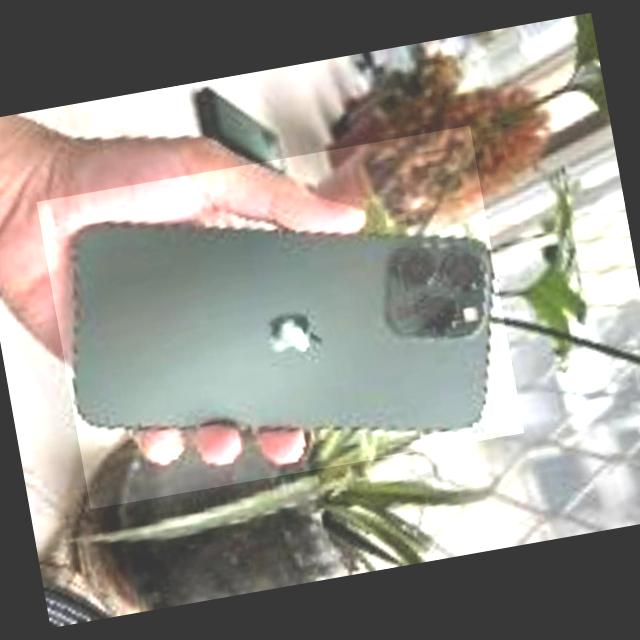lens_back: (381, 239, 442, 295), (434, 244, 487, 296), (414, 289, 464, 340)
phone: (34, 125, 523, 510)
